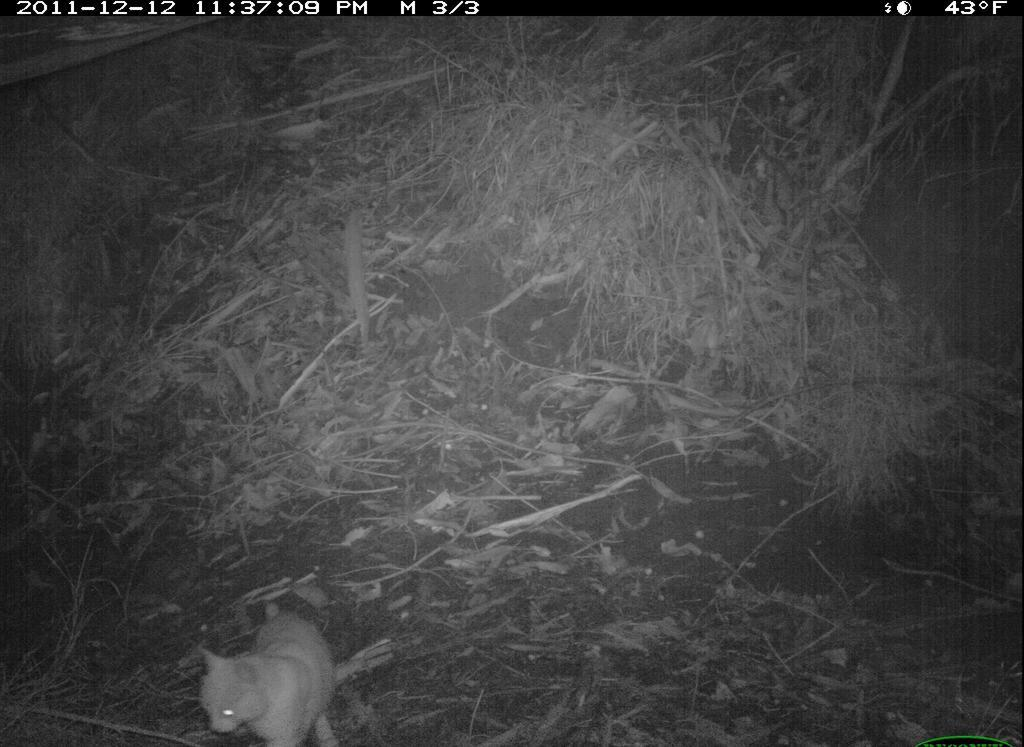cat: (195, 598, 344, 744)
